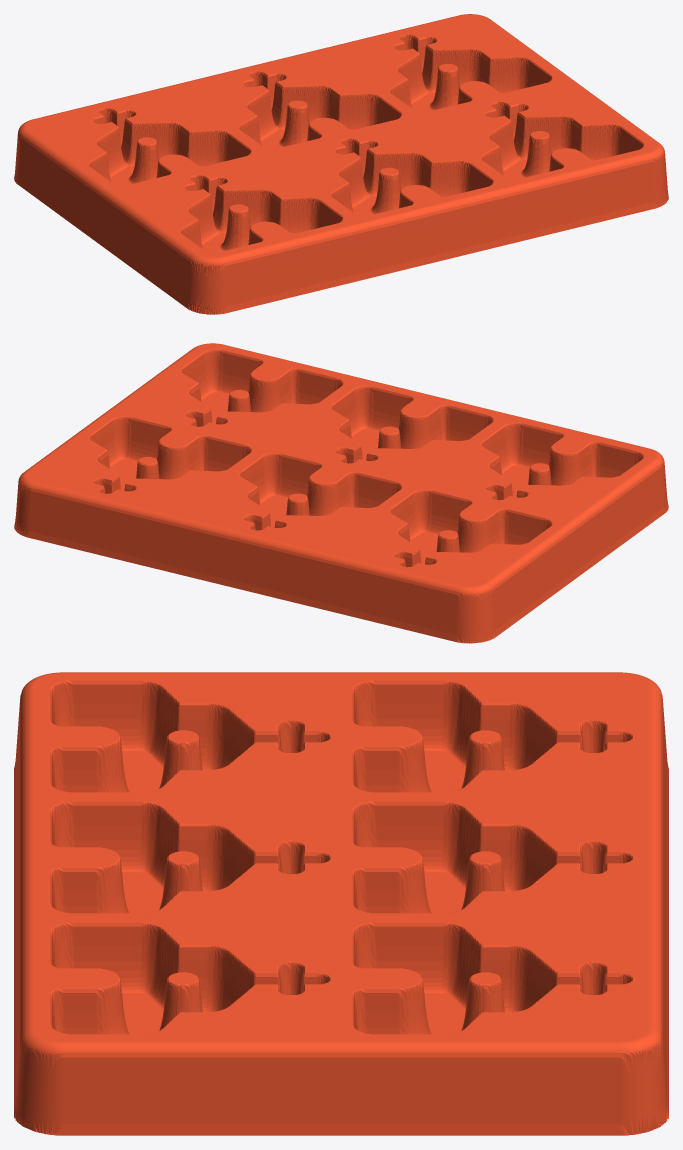
File: mold.glb
3 renders of one model, top to bottom at view 1: azimuth 30°, elevation 25°; view 2: azimuth 150°, elevation 25°; view 3: azimuth 270°, elevation 25°, orthographic. The views are drawn at different scales.
Parts seen in each view (by area): view 1: geometry_0; view 2: geometry_0; view 3: geometry_0.
Boxes of the visible parts, x1,y1,x2,y2 form: geometry_0: (14, 14, 668, 314); geometry_0: (14, 343, 668, 643); geometry_0: (14, 672, 668, 1135).
Size of the model in its own units: 0.1682 by 0.0175 by 0.1211.
